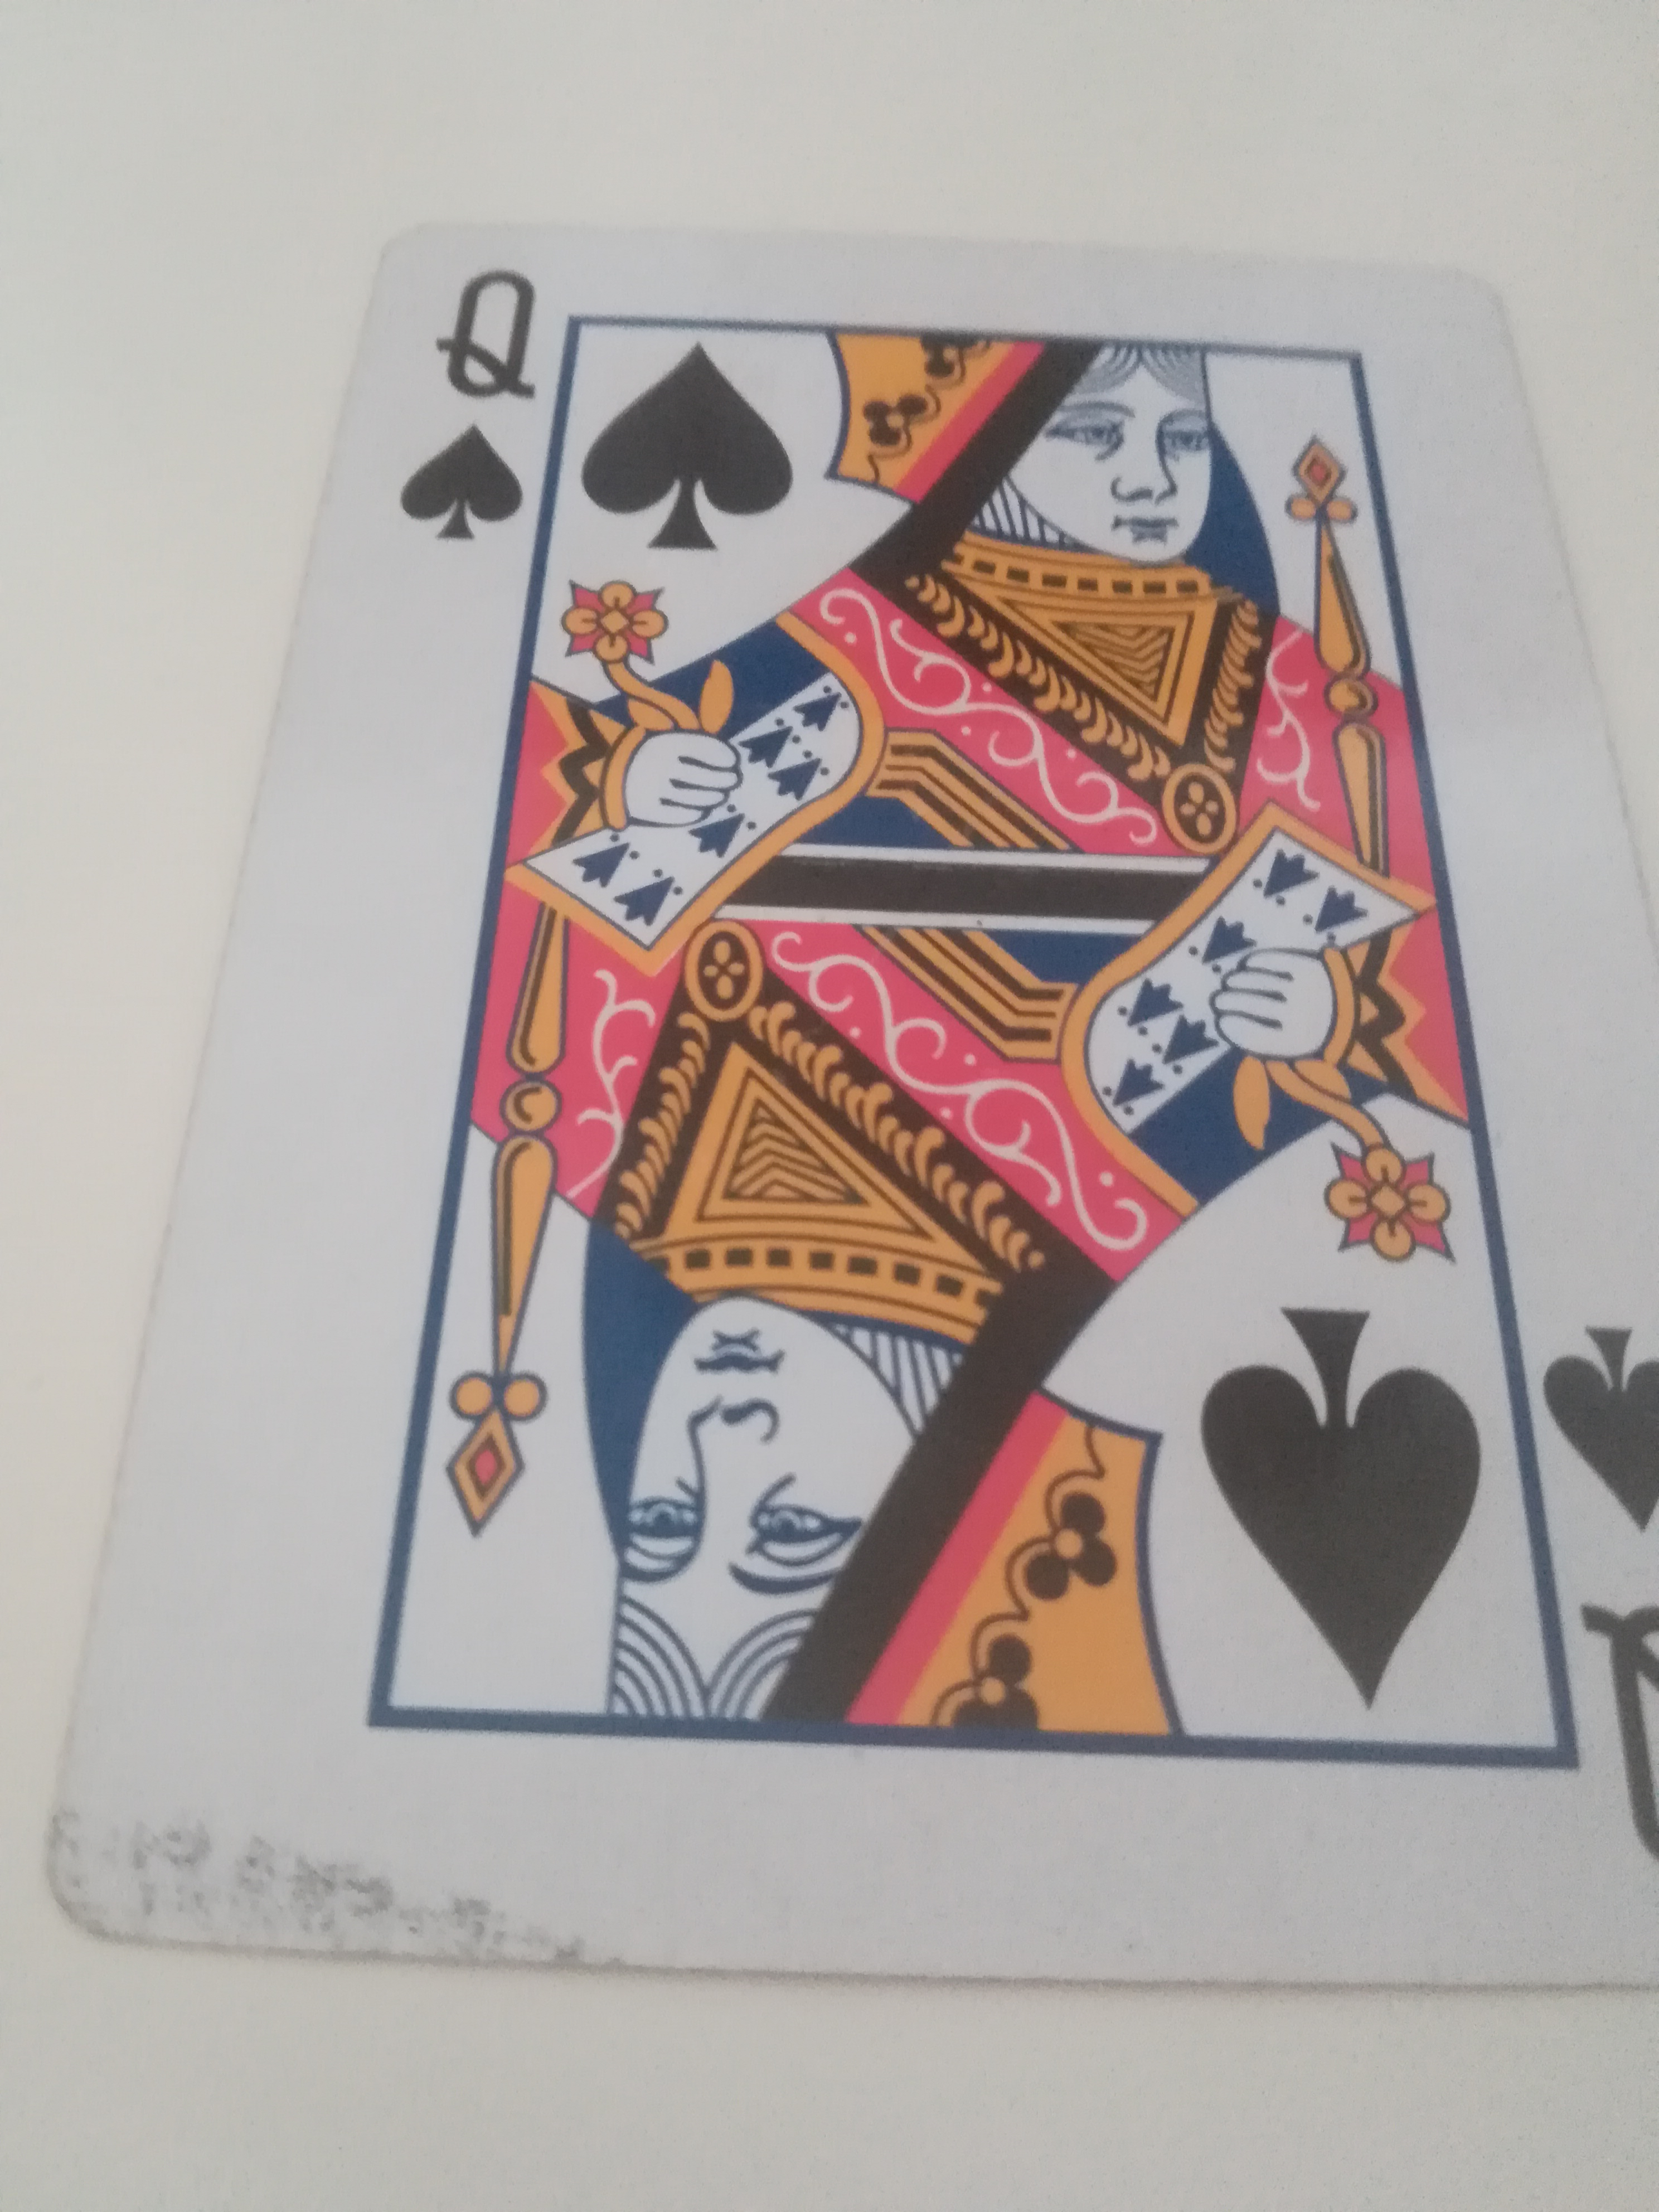QS: (44, 233, 1659, 2012)
